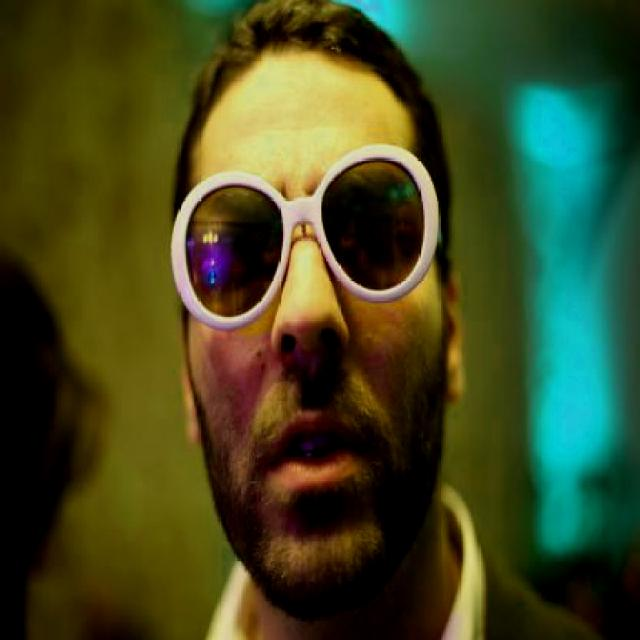face_nomask: (181, 164, 416, 502)
glasses: (163, 147, 446, 327)
head_nohelmet: (186, 5, 412, 107)
